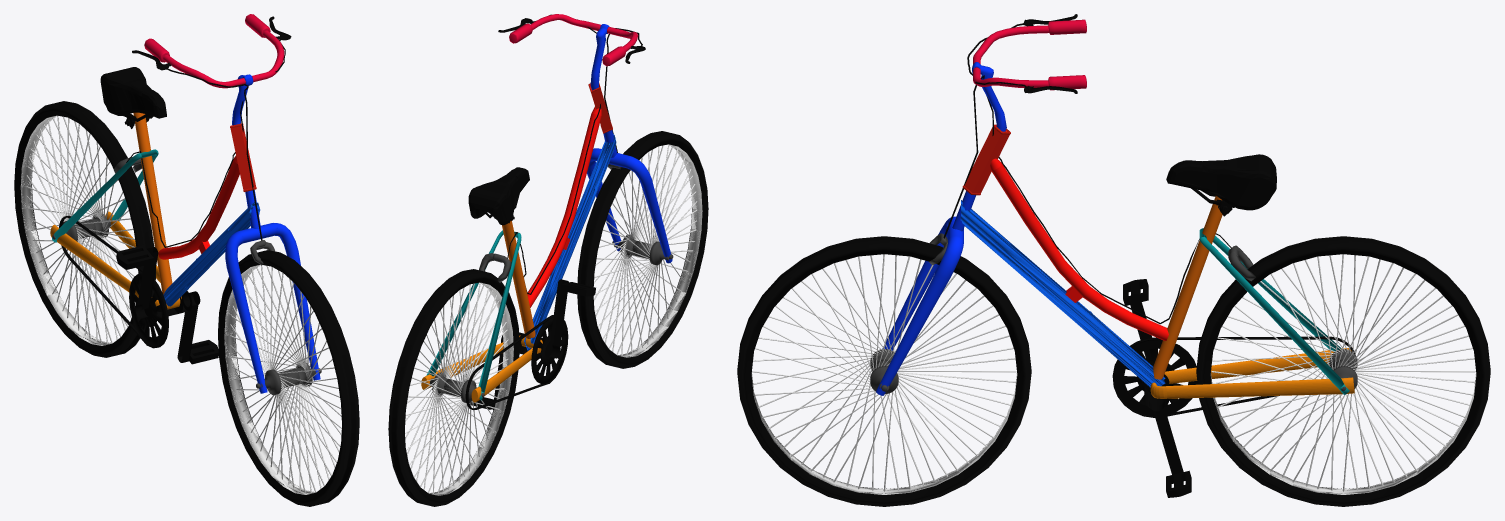
Rendered from WomenBikeV3.fbx.
3 views of the same model, side by side, from view 1: azimuth 30°, elevation 25°; view 2: azimuth 150°, elevation 25°; view 3: azimuth 270°, elevation 25° (orthographic). The views are drawn at different scales.
Parts seen in each view (by area): view 1: FrontWheel, RearWheel, BikeFrame, Handle, Pedalier, PEdalRight, PEdalLeft; view 2: RearWheel, FrontWheel, BikeFrame, Handle, Pedalier, PEdalRight; view 3: BikeFrame, FrontWheel, RearWheel, Handle, Pedalier.
Boxes of the visible parts, left/top/right/bottom form: FrontWheel: left=218, top=250, right=359, bottom=506; RearWheel: left=14, top=101, right=155, bottom=357; BikeFrame: left=50, top=39, right=285, bottom=348; Handle: left=132, top=14, right=320, bottom=393; Pedalier: left=135, top=247, right=200, bottom=362; PEdalRight: left=116, top=245, right=153, bottom=269; PEdalLeft: left=189, top=340, right=218, bottom=364; RearWheel: left=388, top=269, right=519, bottom=506; FrontWheel: left=577, top=131, right=708, bottom=368; BikeFrame: left=421, top=14, right=616, bottom=410; Handle: left=498, top=14, right=672, bottom=263; Pedalier: left=492, top=279, right=568, bottom=409; PEdalRight: left=561, top=282, right=595, bottom=296; BikeFrame: left=960, top=75, right=1354, bottom=417; FrontWheel: left=737, top=236, right=1031, bottom=506; RearWheel: left=1196, top=236, right=1490, bottom=506; Handle: left=876, top=14, right=1086, bottom=395; Pedalier: left=1129, top=294, right=1183, bottom=474.
Bounding box in the file's own units: 116 × 316 × 472.
